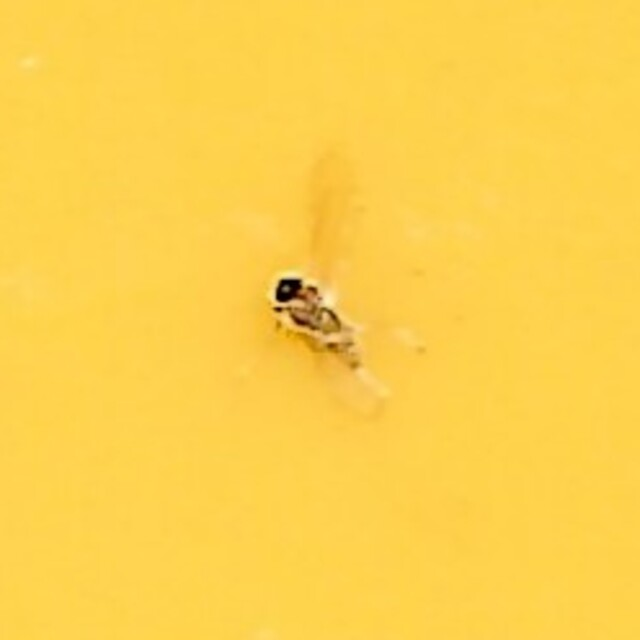Nematocera: (258, 252, 382, 388)
